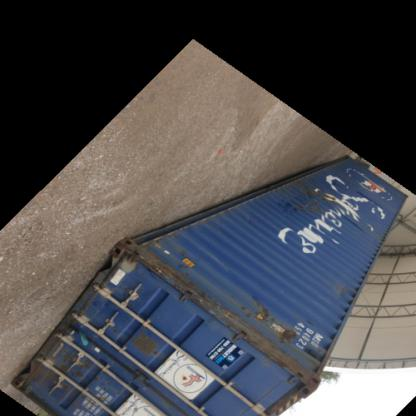Damage: (146, 255, 224, 315), (241, 306, 304, 354), (288, 179, 344, 219), (336, 278, 352, 298)
